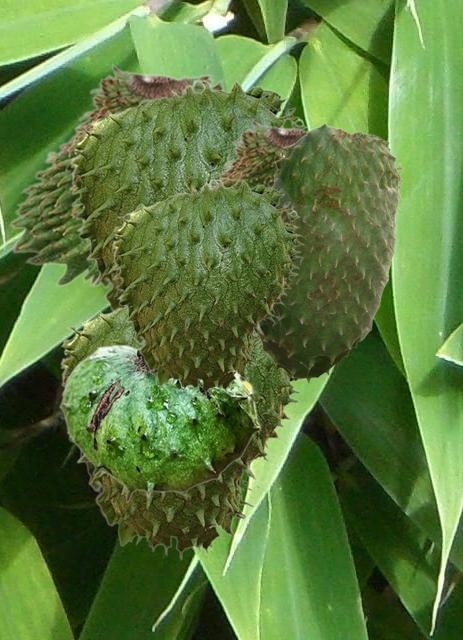guyabano: (60, 306, 305, 560), (70, 78, 309, 311), (8, 62, 225, 286), (112, 178, 304, 397), (255, 122, 403, 382), (59, 344, 260, 502), (211, 117, 348, 188)
